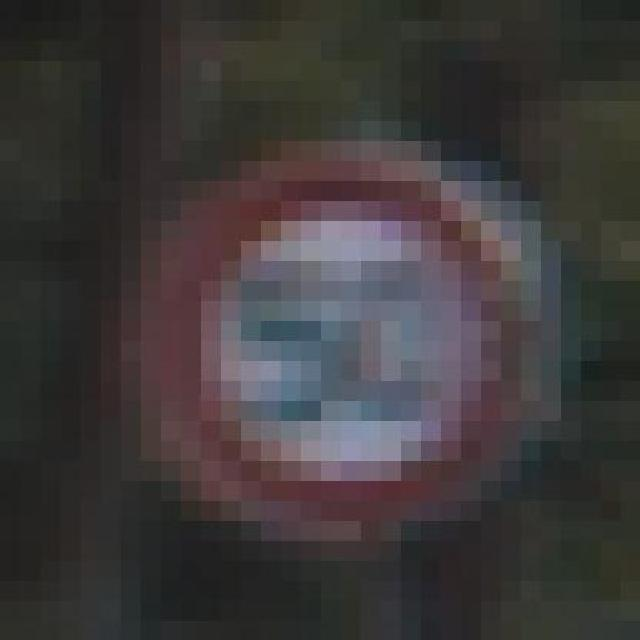forb_speed_over_50: (163, 168, 526, 527)
